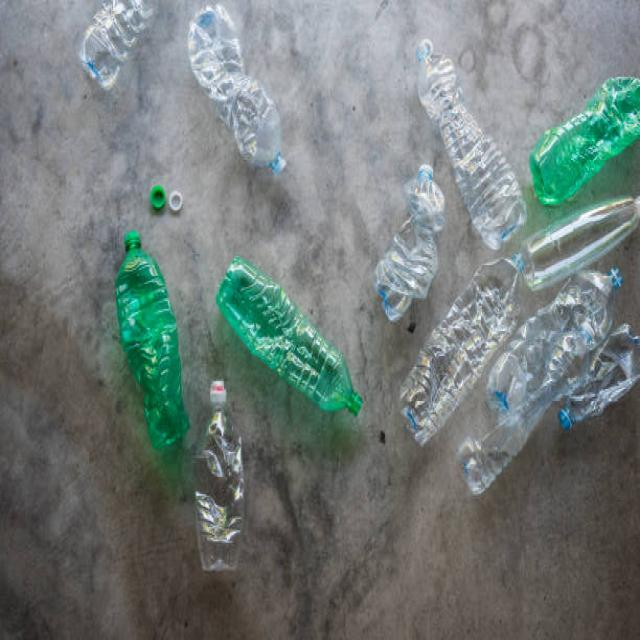plastic: (377, 36, 640, 492), (221, 260, 364, 416), (109, 229, 190, 449), (194, 372, 247, 574)
